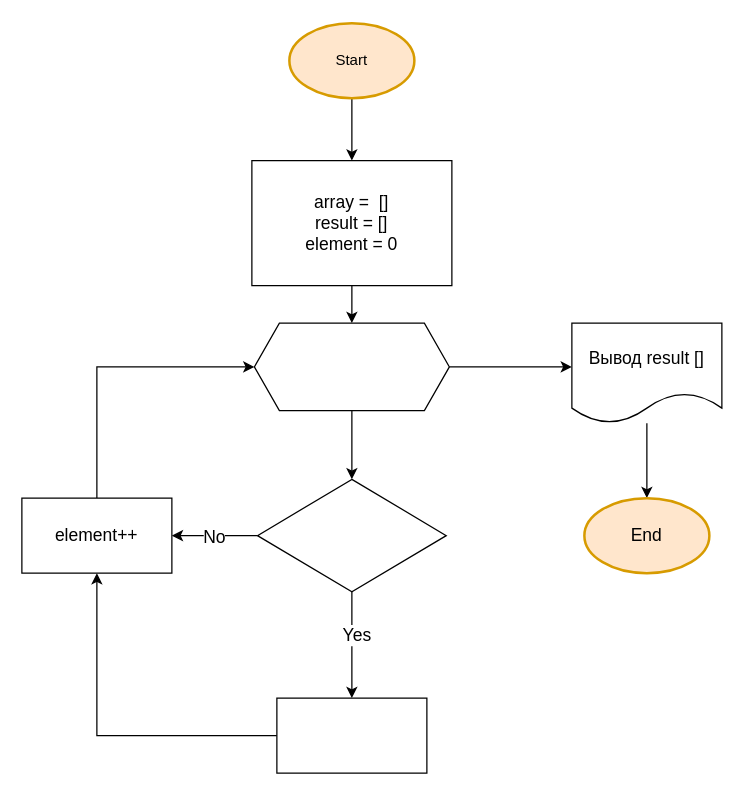
Some shapes in this 744 by 795 pixel diagram are drawn without their labels. Each missing label, with the box of its shape:
array[i].length <= 3: (256, 478, 446, 592)
i = 0, i < array.length, i++: (253, 322, 449, 411)
result[element] = array[i]: (276, 697, 427, 773)
